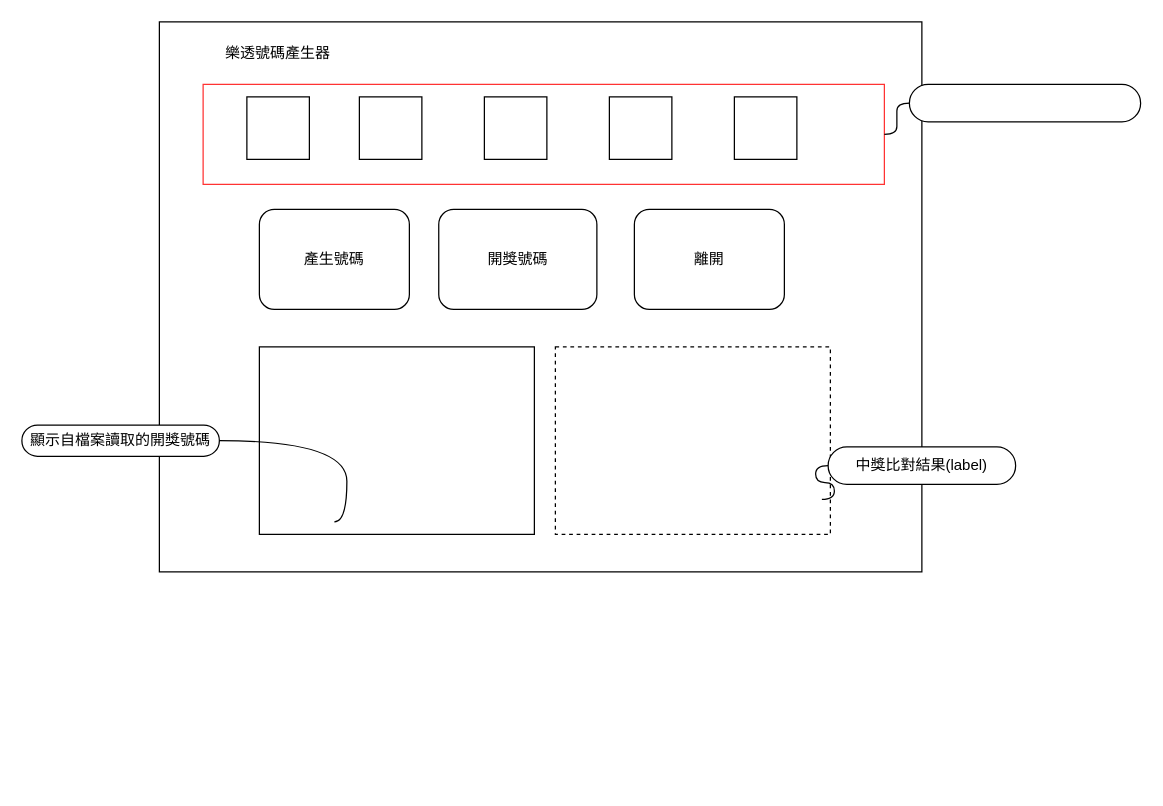
The diagram is 1163 pixels wide and 806 high, and some of its shapes have lost their labels. The shapes that lost their labels are listed below. From the top down, each one's centre as x and y in pixels, then its label:
At (x=1024, y=102): "顯示亂數產生的號碼".
At (x=692, y=440): "中獎比對結果".
